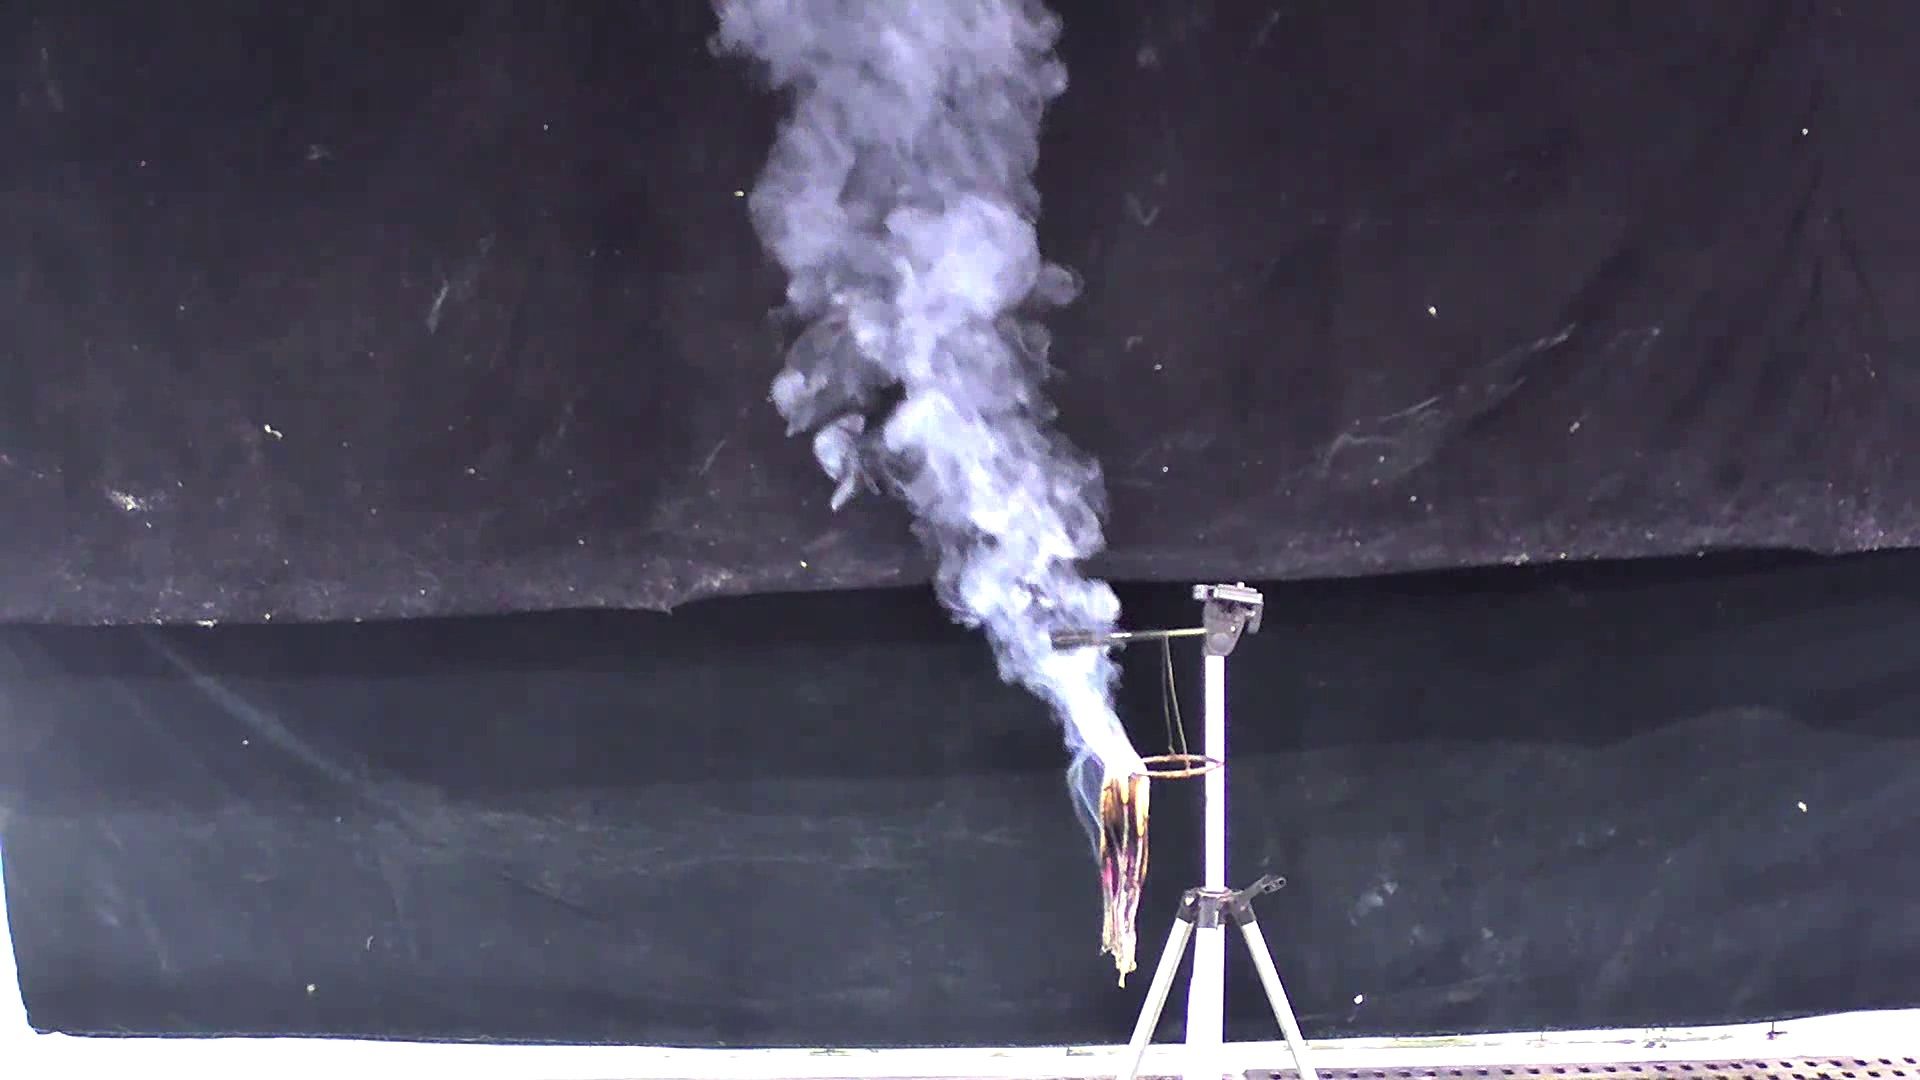smoke: (688, 1, 1164, 803)
